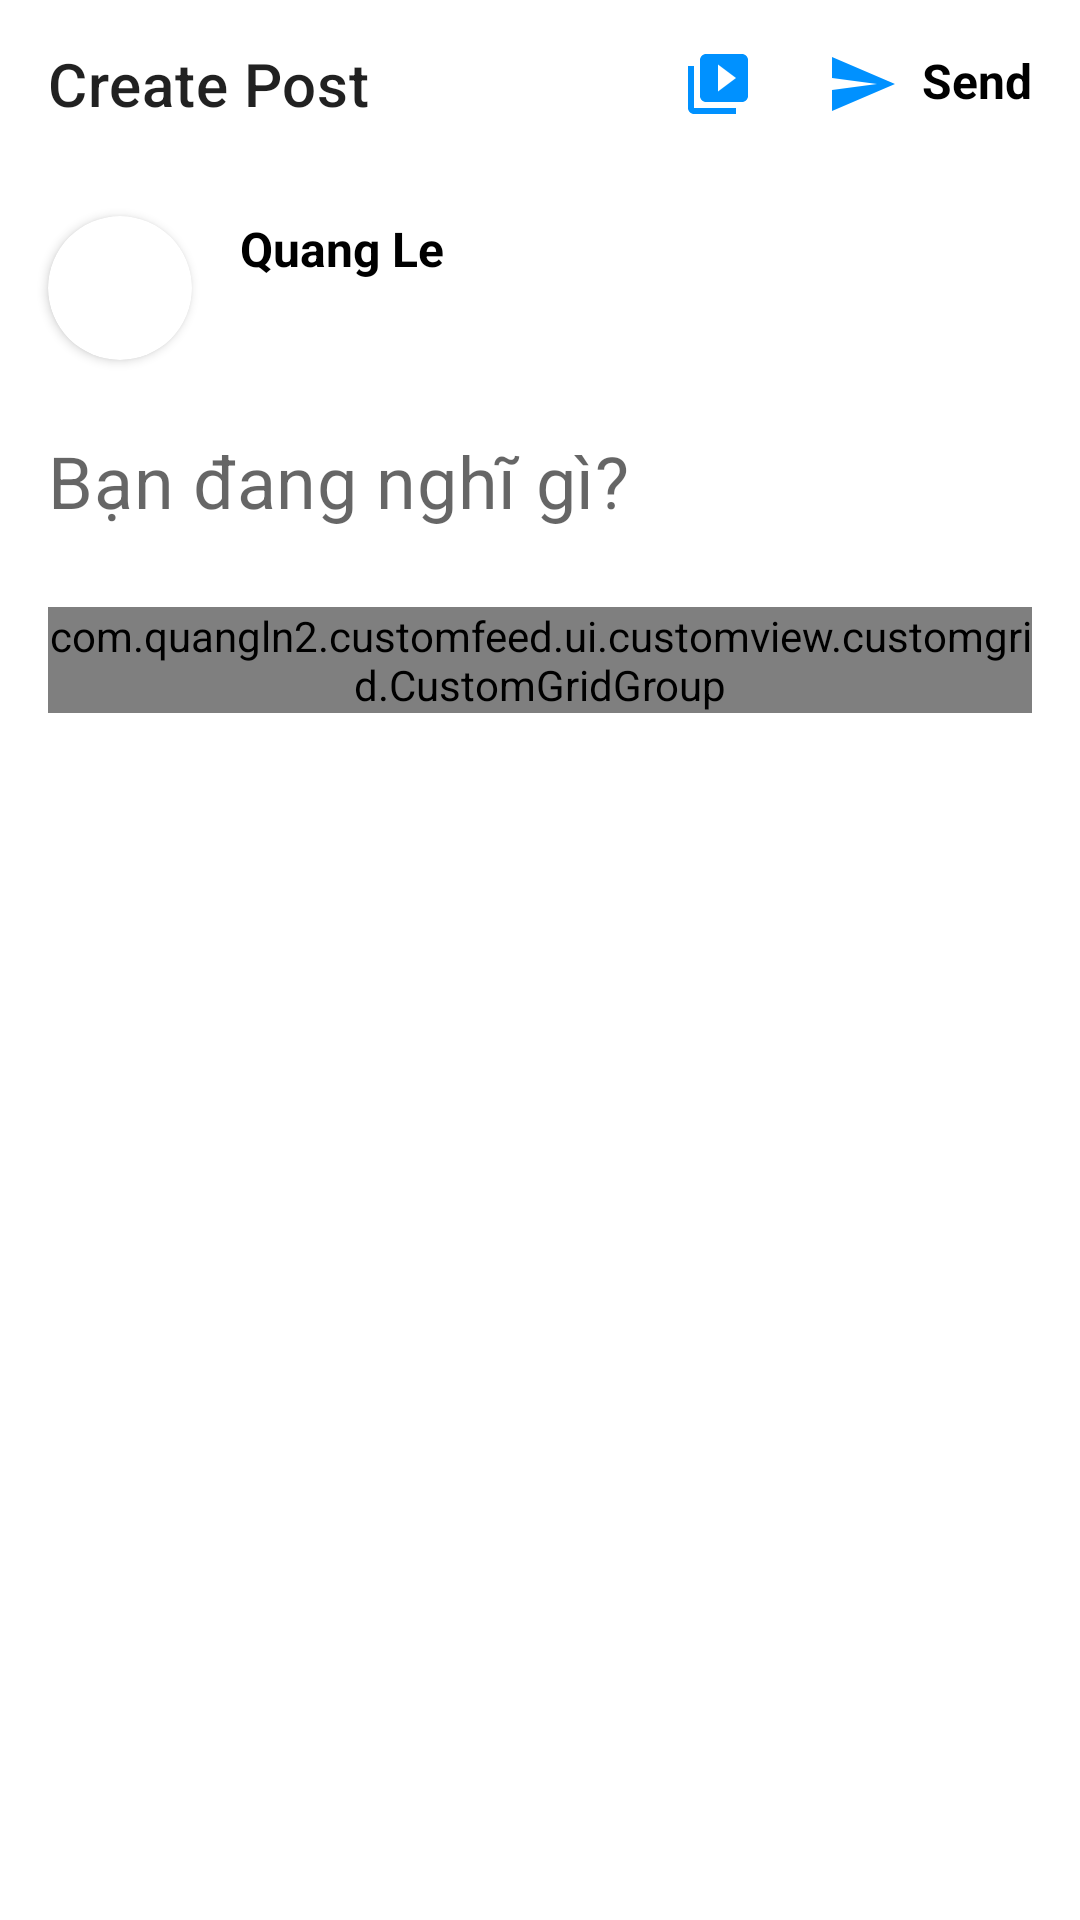

Icon click points for this 1080×1920 phone screenshot, format [x,y]:
video library: [718,84]
